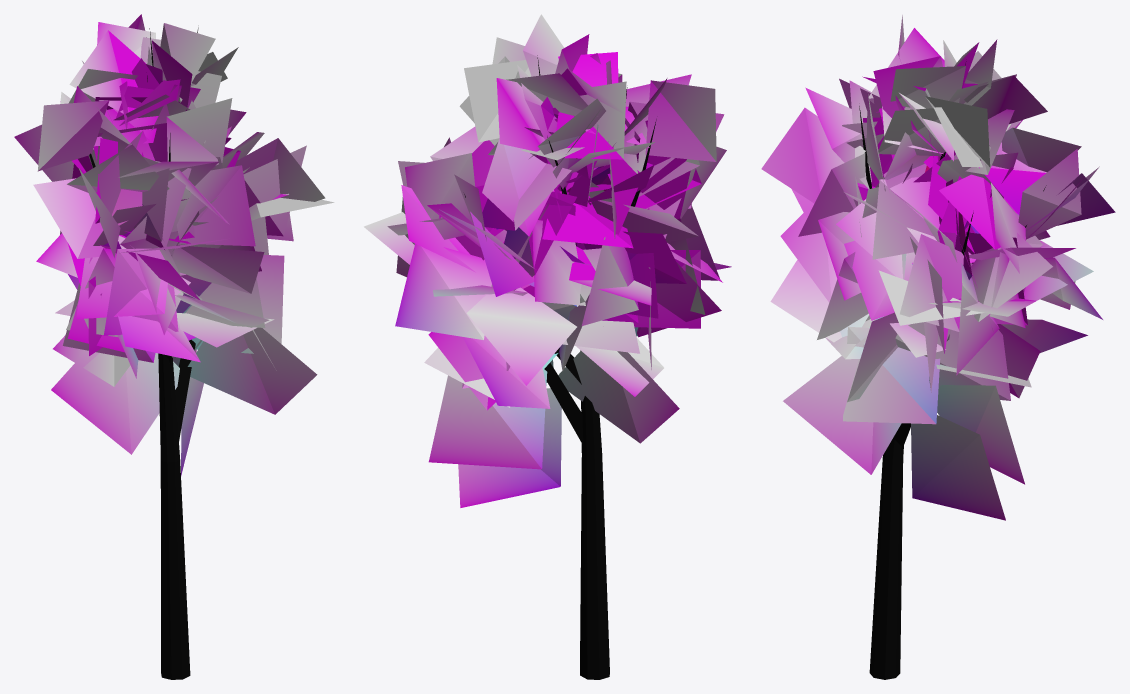
The model's file is birch_01_c.dae.
3 views of the same model, side by side, from view 1: azimuth 30°, elevation 25°; view 2: azimuth 150°, elevation 25°; view 3: azimuth 270°, elevation 25° (orthographic). The views are drawn at different scales.
Parts seen in each view (by area): view 1: birchc80; view 2: birchc80; view 3: birchc80.
Part boxes in pixels (x1=…): birchc80: x1=14, y1=14, x2=334, y2=679; birchc80: x1=364, y1=14, x2=731, y2=679; birchc80: x1=761, y1=15, x2=1115, y2=679.
Size of what is drawn, in the model's own units: 9.22 by 9.54 by 18.62.
